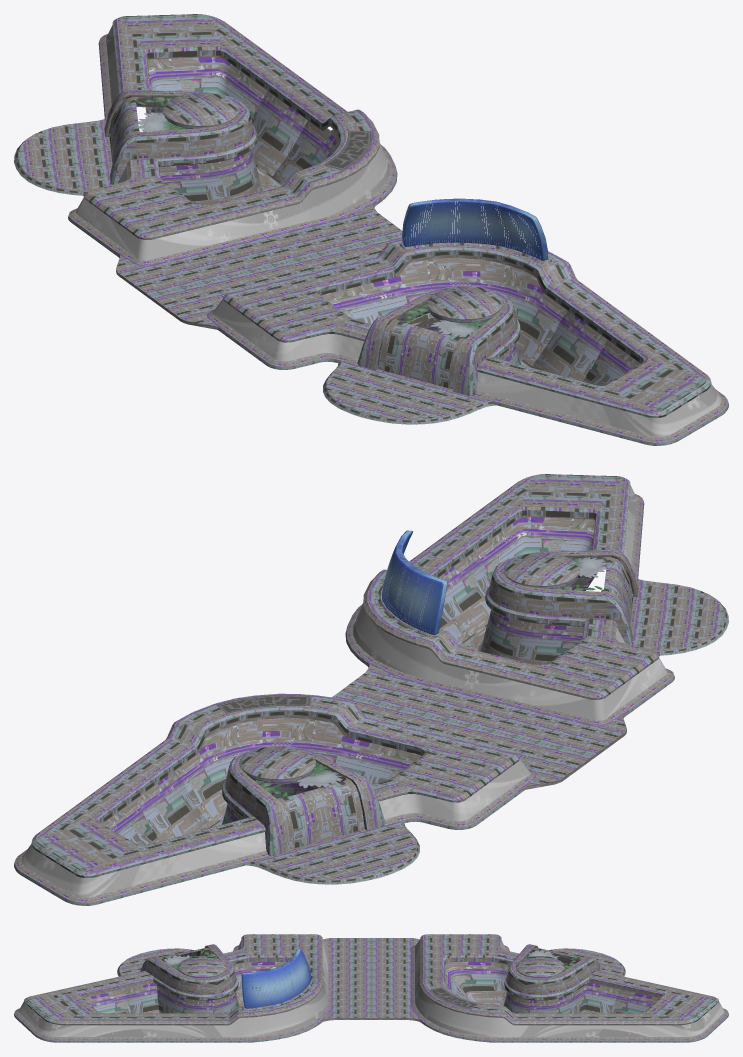
File: pref_sm_beach_winter_techobstacle03_lv3.fbx
The picture shows the model from 3 angles, top to bottom: view 1: azimuth 30°, elevation 25°; view 2: azimuth 150°, elevation 25°; view 3: azimuth 270°, elevation 25°; orthographic projection. The views are drawn at different scales.
Parts seen in each view (by area): view 1: sm_beach_winter_techobstacle03_a_lv3, sm_beach_winter_techobstacle03_b_lv3, sm_beach_winter_techobstacle03_f_lv3, sm_beach_winter_techobstacle03_d_lv3, sm_beach_winter_techobstacle03_c_lv3, sm_beach_winter_techobstacle03_e_lv3; view 2: sm_beach_winter_techobstacle03_a_lv3, sm_beach_winter_techobstacle03_b_lv3, sm_beach_winter_techobstacle03_f_lv3, sm_beach_winter_techobstacle03_d_lv3, sm_beach_winter_techobstacle03_c_lv3, sm_beach_winter_techobstacle03_e_lv3; view 3: sm_beach_winter_techobstacle03_a_lv3, sm_beach_winter_techobstacle03_f_lv3, sm_beach_winter_techobstacle03_b_lv3, sm_beach_winter_techobstacle03_d_lv3, sm_beach_winter_techobstacle03_c_lv3, sm_beach_winter_techobstacle03_e_lv3.
Part boxes in pixels (bbox=[...]): sm_beach_winter_techobstacle03_a_lv3: bbox=[14, 14, 728, 445]; sm_beach_winter_techobstacle03_b_lv3: bbox=[145, 57, 640, 385]; sm_beach_winter_techobstacle03_f_lv3: bbox=[76, 25, 721, 437]; sm_beach_winter_techobstacle03_d_lv3: bbox=[402, 198, 548, 260]; sm_beach_winter_techobstacle03_c_lv3: bbox=[135, 97, 490, 337]; sm_beach_winter_techobstacle03_e_lv3: bbox=[322, 130, 372, 170]; sm_beach_winter_techobstacle03_a_lv3: bbox=[14, 474, 728, 905]; sm_beach_winter_techobstacle03_b_lv3: bbox=[102, 517, 596, 845]; sm_beach_winter_techobstacle03_f_lv3: bbox=[21, 485, 666, 897]; sm_beach_winter_techobstacle03_d_lv3: bbox=[382, 530, 447, 635]; sm_beach_winter_techobstacle03_c_lv3: bbox=[256, 557, 606, 798]; sm_beach_winter_techobstacle03_e_lv3: bbox=[216, 695, 311, 713]; sm_beach_winter_techobstacle03_a_lv3: bbox=[14, 934, 728, 1042]; sm_beach_winter_techobstacle03_f_lv3: bbox=[18, 939, 724, 1037]; sm_beach_winter_techobstacle03_b_lv3: bbox=[84, 962, 658, 1013]; sm_beach_winter_techobstacle03_d_lv3: bbox=[241, 949, 311, 1008]; sm_beach_winter_techobstacle03_c_lv3: bbox=[163, 949, 580, 971]; sm_beach_winter_techobstacle03_e_lv3: bbox=[428, 987, 478, 1009].
Size of the model in its own units: 15.26 by 5.37 by 44.8.
